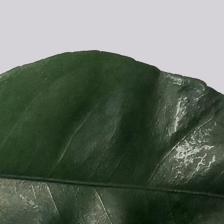healthy: (0, 59, 224, 224)
